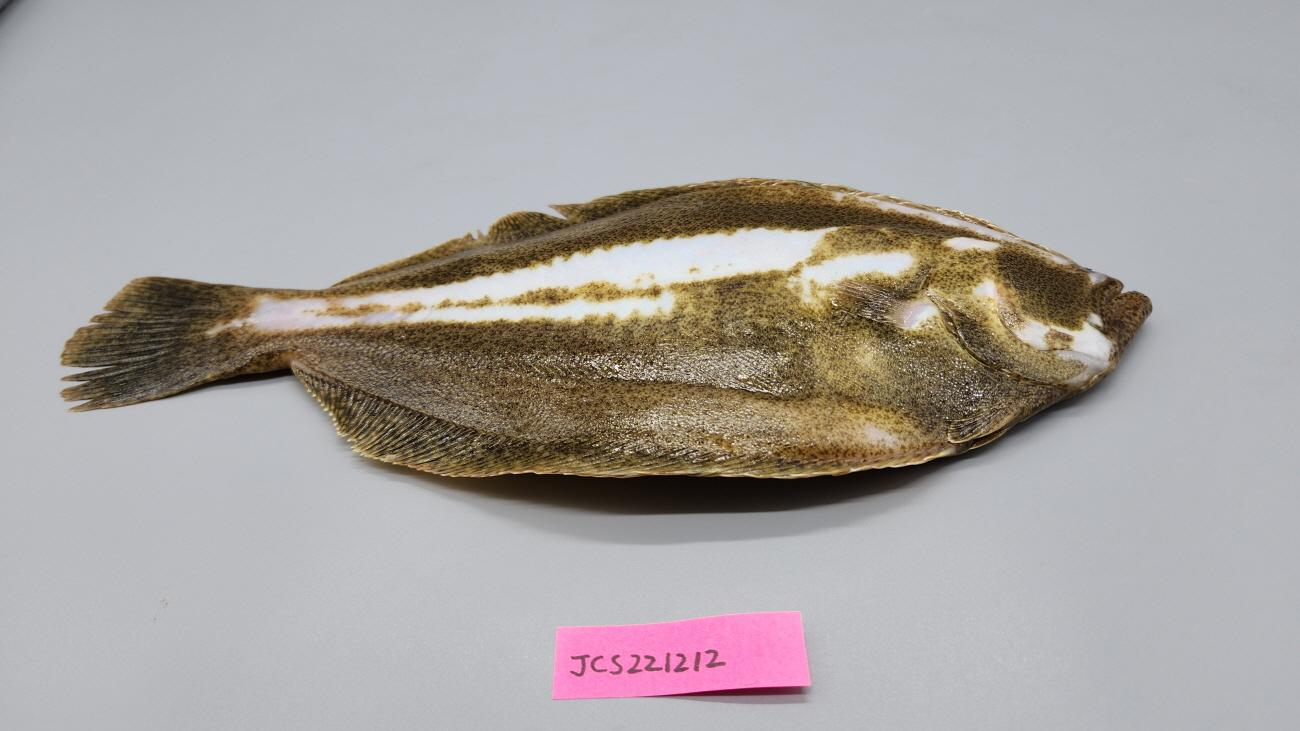POOUN: (58, 178, 1154, 480)
